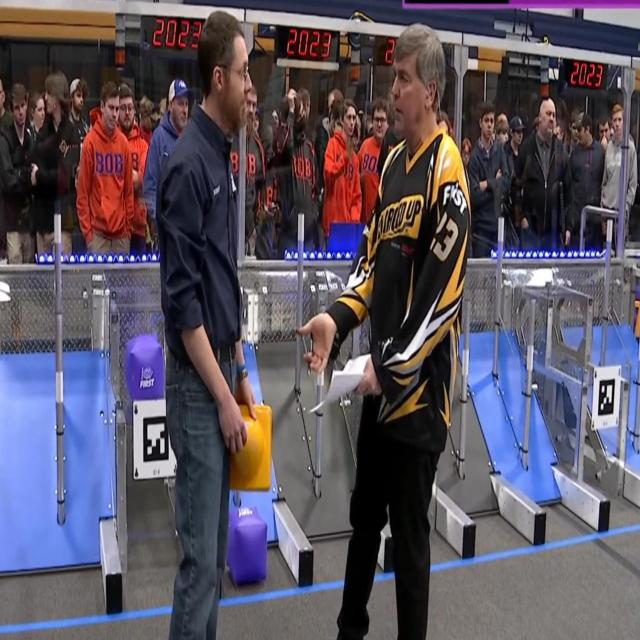frc_cone: (228, 403, 270, 489), (633, 305, 640, 337)
frc_cube: (227, 504, 268, 578), (125, 334, 163, 398), (636, 280, 640, 297)
